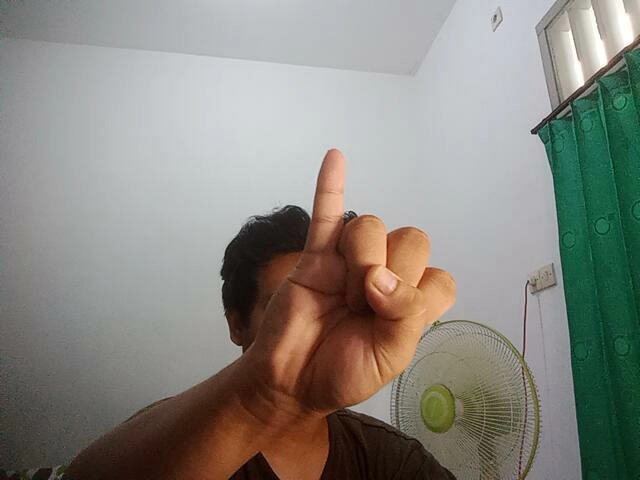I: (253, 138, 461, 408)
